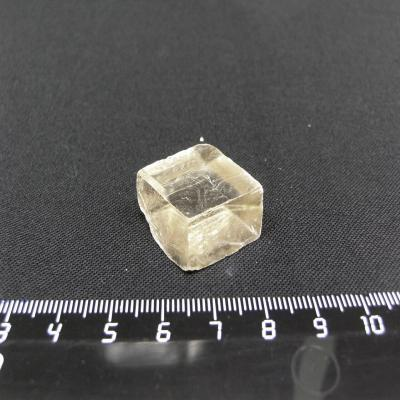mineralogy: (135, 142, 264, 274)
